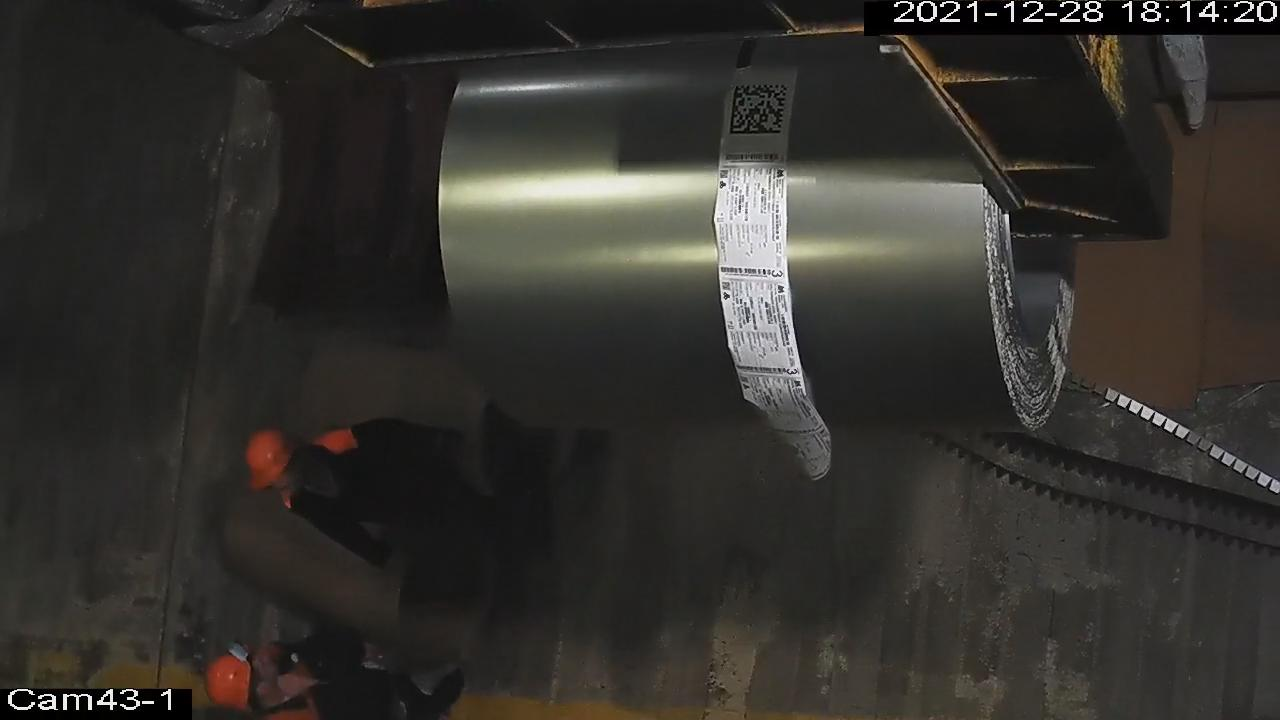data matrix: (725, 79, 794, 140)
